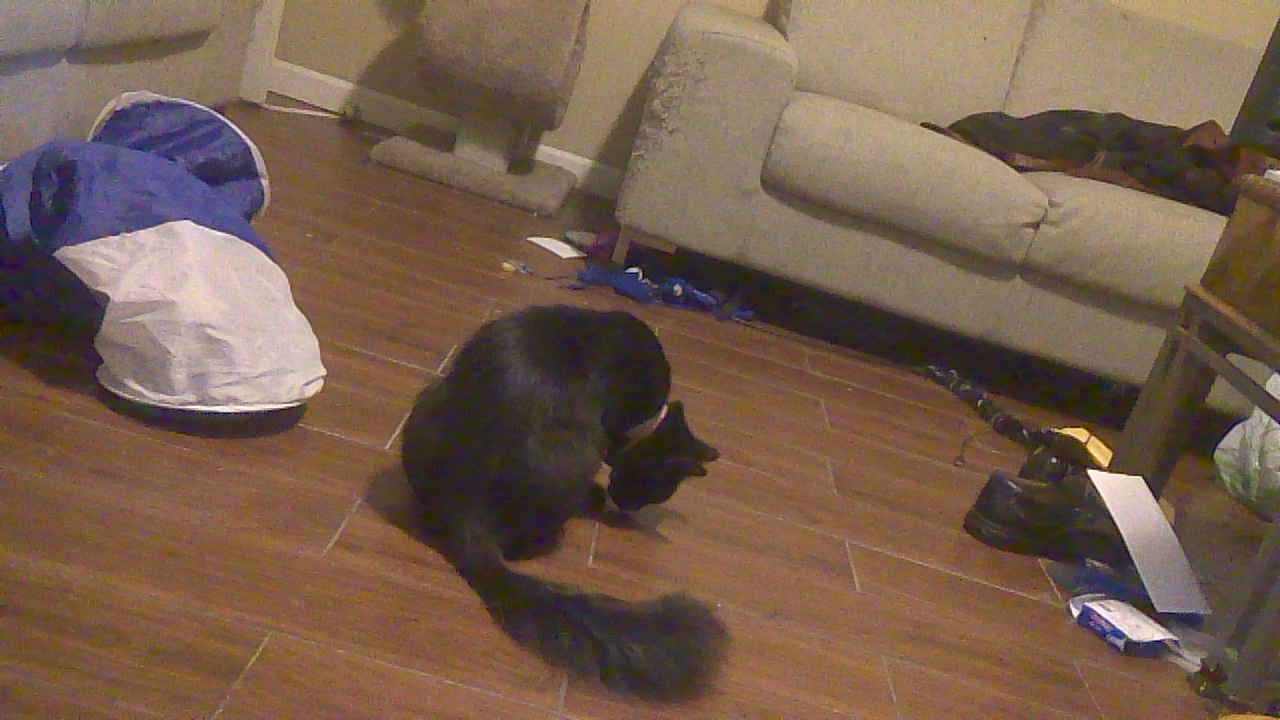cat: (398, 298, 725, 707)
